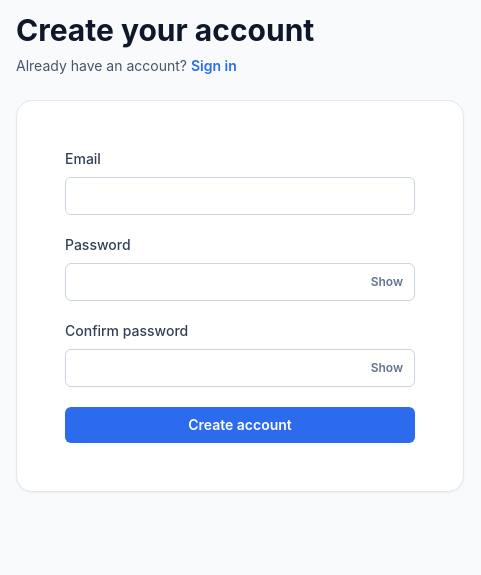
RegisterPage › shows error when password is too short
The width and height of the screenshot is (481, 575).
Type "test@example.com" into the field labelled "Email" at (240, 196), box [65,177,415,215]
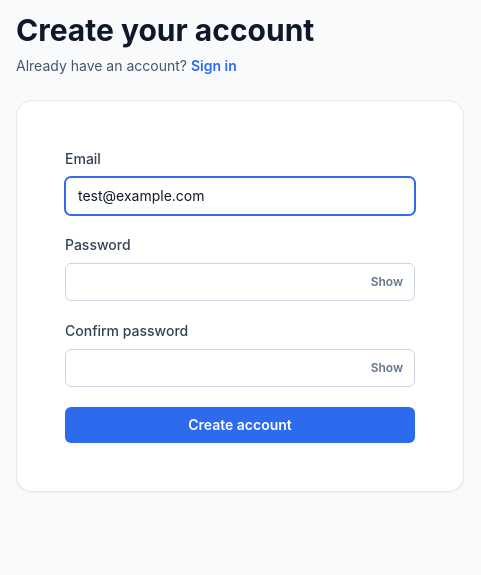
Type "short" into the password field labelled "Password" at (240, 282), box [65,263,415,301]
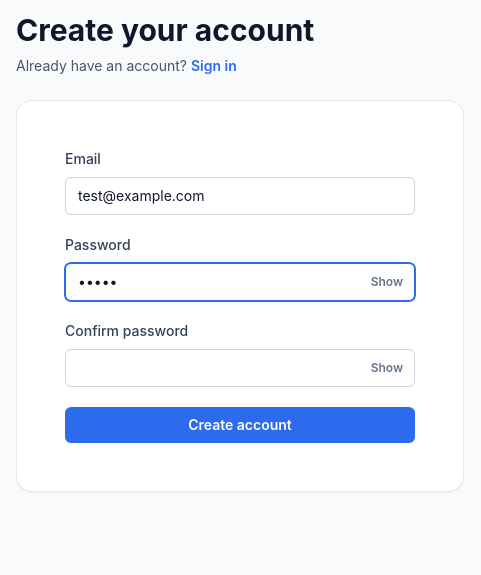
Type "short" into the password field labelled "Confirm password" at (240, 368), box [65,349,415,387]
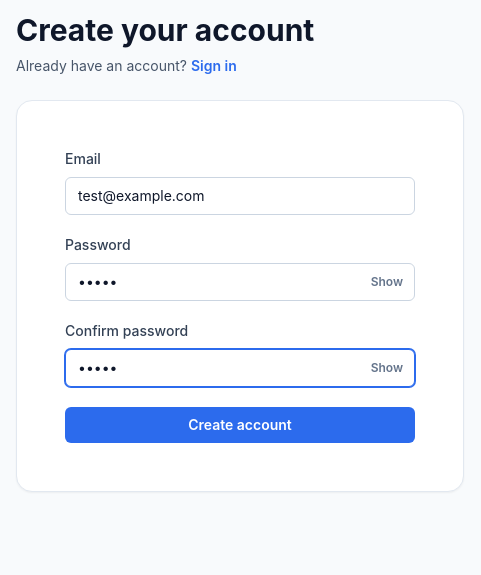
Click the button "Create account" at (240, 425), box [65,407,415,443]
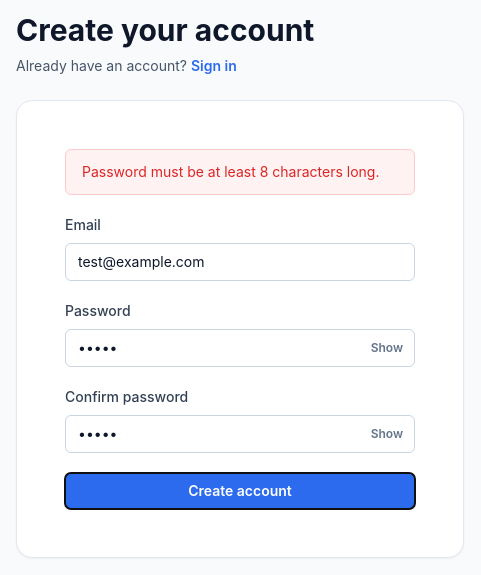
Expected: the text "Password must be at least 8 characters long." is shown, [65,149,415,195]
